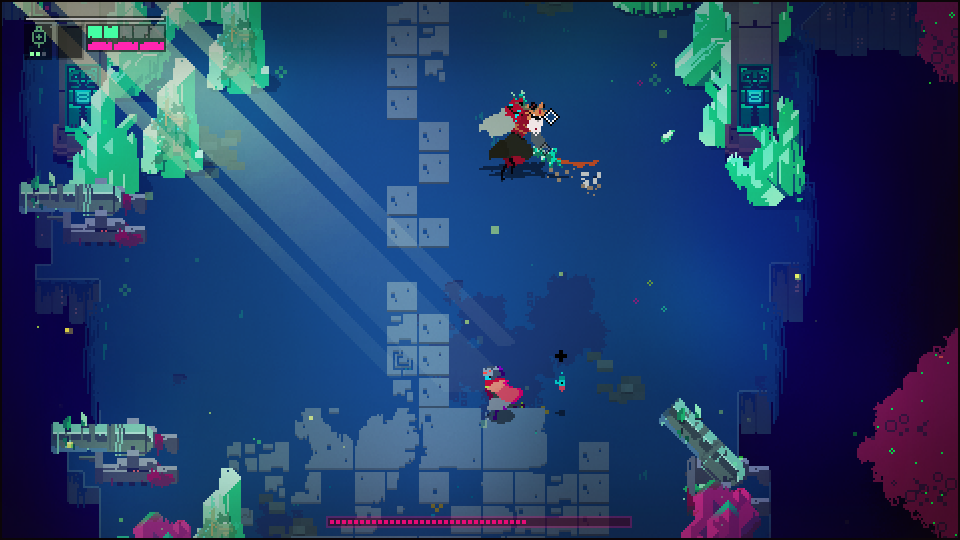hanged_man: (478, 86, 566, 176)
player: (475, 363, 523, 424)
